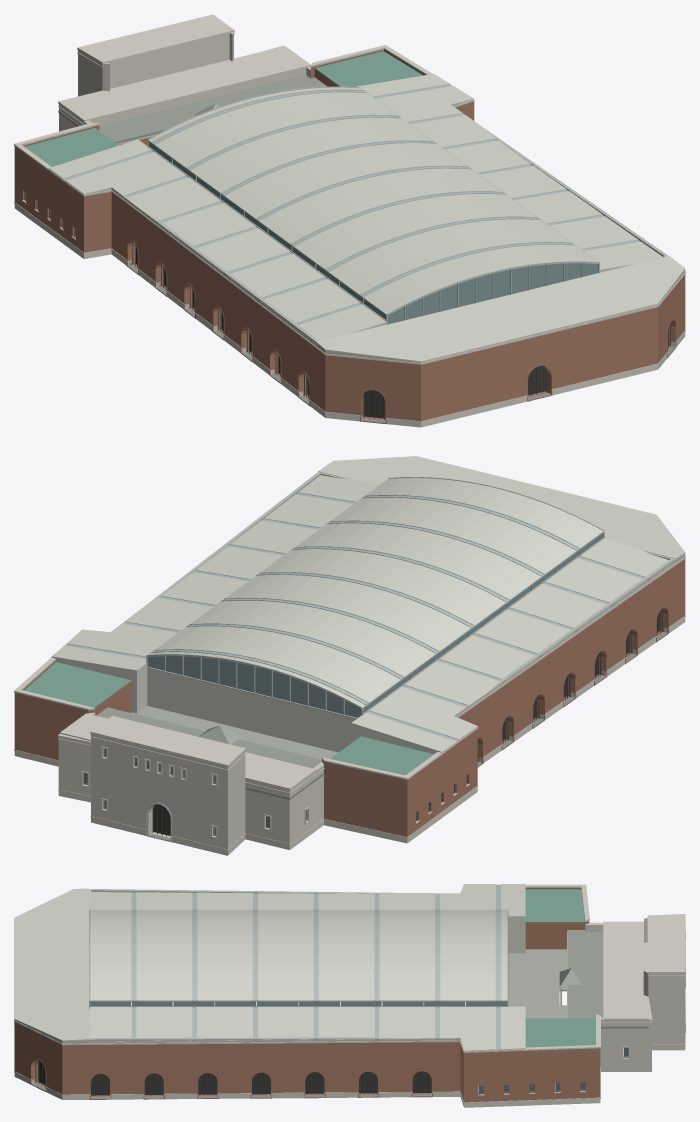
The model's file is yangpu-jiangwan-swimming-hall-lod.glb.
3 views of the same model, one above another, from view 1: azimuth 30°, elevation 25°; view 2: azimuth 150°, elevation 25°; view 3: azimuth 270°, elevation 25° (orthographic). The views are drawn at different scales.
Visible parts, largest first — view 1: 江湾游泳馆（历史池馆与现状屋盖）; view 2: 江湾游泳馆（历史池馆与现状屋盖）; view 3: 江湾游泳馆（历史池馆与现状屋盖）.
Part boxes in pixels (bbox=[...]): 江湾游泳馆（历史池馆与现状屋盖）: bbox=[14, 14, 685, 427]; 江湾游泳馆（历史池馆与现状屋盖）: bbox=[14, 456, 685, 855]; 江湾游泳馆（历史池馆与现状屋盖）: bbox=[14, 884, 685, 1107].
Bounding box in the file's own units: 54.68 × 12.87 × 92.93.
